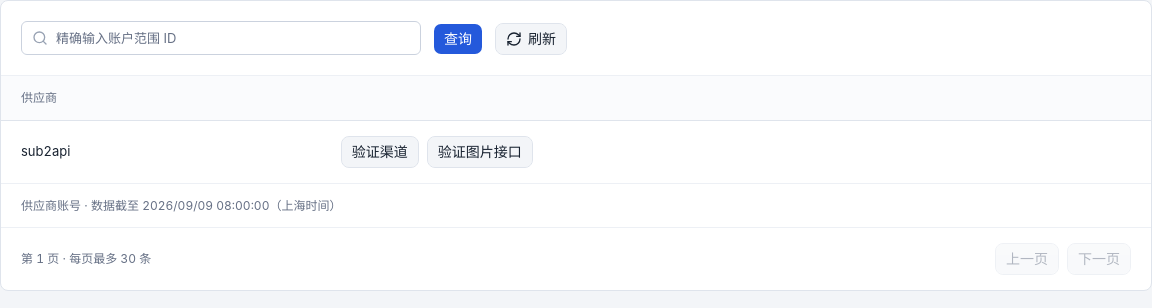
Test: verifies a configured third-party image channel without probing image generation
Expected: the text "sub2api" is shown, [1, 120, 321, 182]
Click the button "验证图片接口".
click(480, 152)  # box [427, 136, 533, 168]
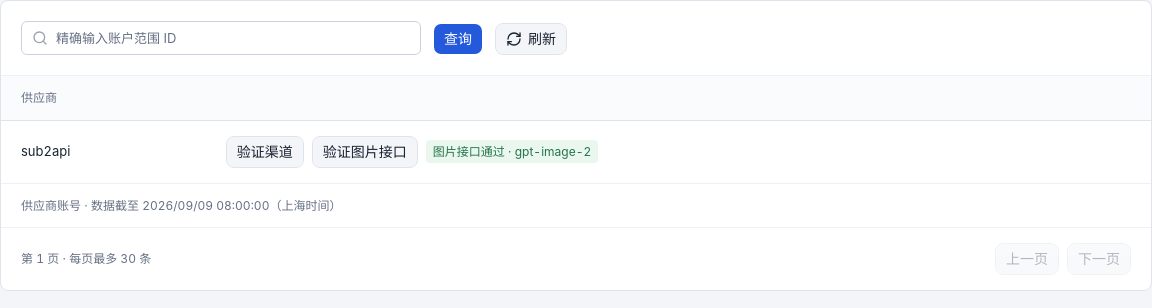
Expected: the text "图片接口通过 · gpt-image-2" is shown, [426, 140, 598, 163]
